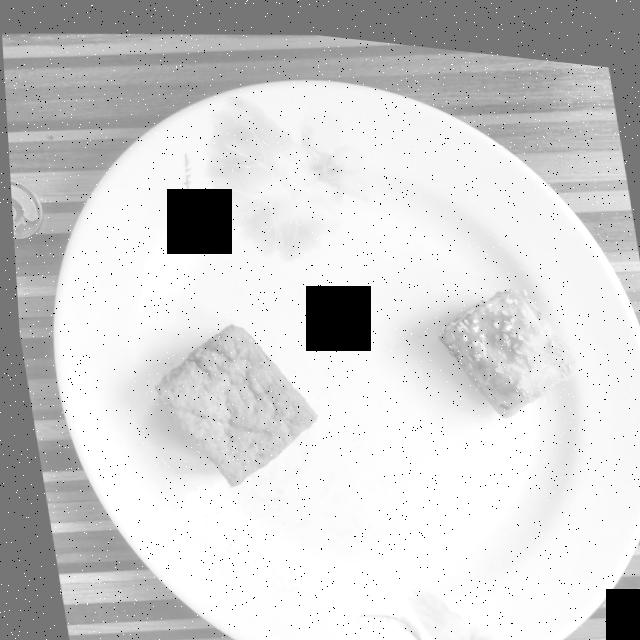coin: (8, 179, 40, 237)
creamy tofu: (435, 275, 571, 405)
egg tofu: (149, 318, 311, 480)
